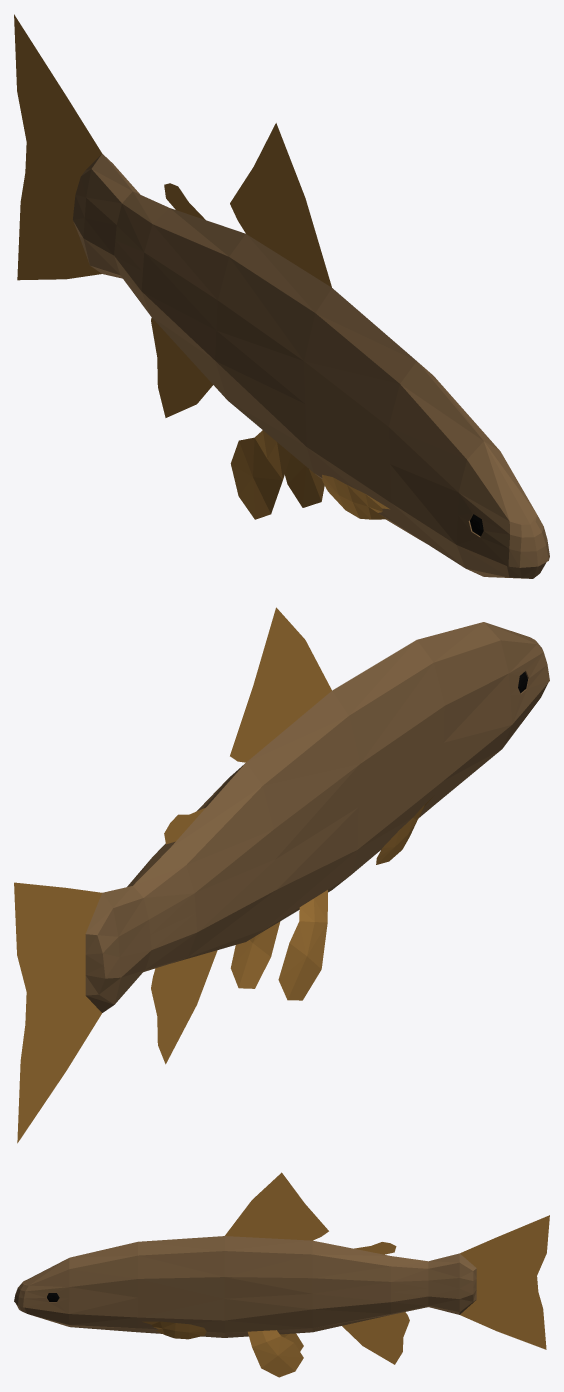
The model's file is RiverTrout.fbx.
3 renders of one model, top to bottom at view 1: azimuth 30°, elevation 25°; view 2: azimuth 150°, elevation 25°; view 3: azimuth 270°, elevation 25°, orthographic. The views are drawn at different scales.
Visible parts, largest first — view 1: RiverTroutBody, RiverTroutFin3, RiverTroutFin1, RiverTroutFin5, RiverTroutFin4, RiverTroutFin6; view 2: RiverTroutBody, RiverTroutFin3, RiverTroutFin1, RiverTroutFin5, RiverTroutFin4, RiverTroutFin6; view 3: RiverTroutBody, RiverTroutFin3, RiverTroutFin1, RiverTroutFin4, RiverTroutFin5, RiverTroutFin6, RiverTroutFin2.
Boxes of the visible parts, x1,y1,x2,y2 form: RiverTroutBody: (73, 153, 549, 578); RiverTroutFin3: (14, 14, 101, 280); RiverTroutFin1: (230, 123, 331, 287); RiverTroutFin5: (230, 430, 324, 519); RiverTroutFin4: (151, 317, 212, 417); RiverTroutFin6: (322, 474, 389, 519); RiverTroutBody: (85, 622, 549, 1012); RiverTroutFin3: (14, 882, 101, 1143); RiverTroutFin1: (230, 607, 331, 762); RiverTroutFin5: (230, 890, 327, 1000); RiverTroutFin4: (151, 950, 217, 1064); RiverTroutFin6: (376, 795, 434, 864); RiverTroutBody: (14, 1236, 476, 1337); RiverTroutFin3: (460, 1215, 549, 1349); RiverTroutFin1: (225, 1172, 328, 1240); RiverTroutFin4: (342, 1312, 409, 1364); RiverTroutFin5: (248, 1330, 303, 1377); RiverTroutFin6: (142, 1321, 206, 1339); RiverTroutFin2: (354, 1242, 396, 1254).
Bounding box in the file's own units: 3.89 × 21.77 × 53.1.
